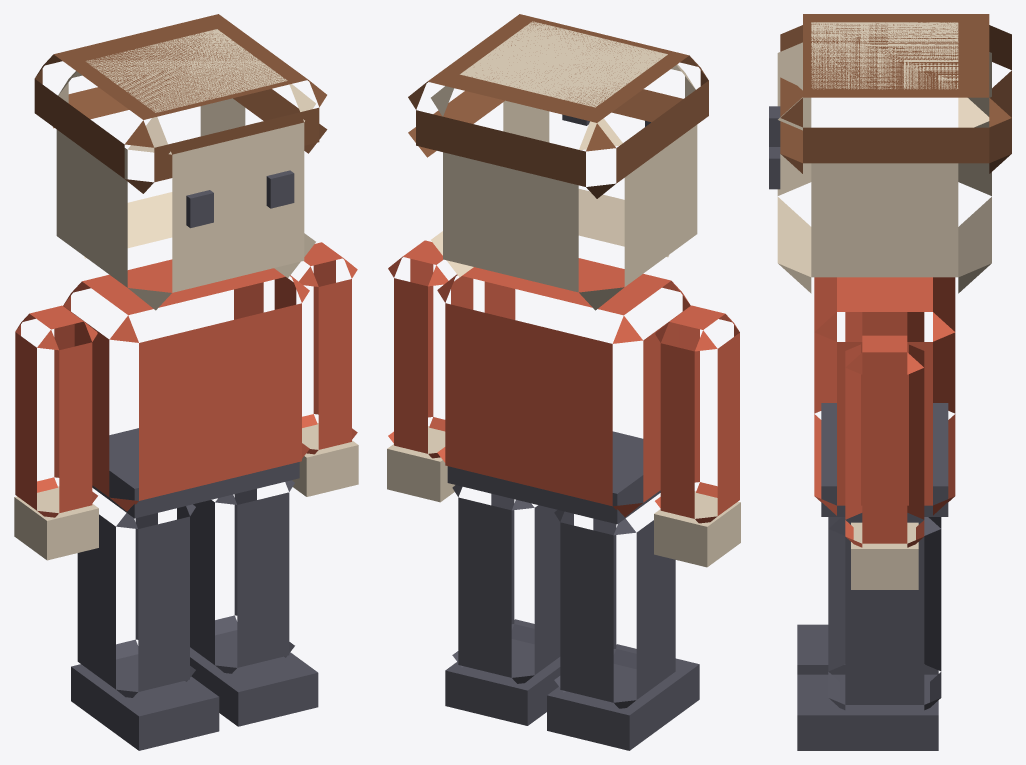
The model's file is citizen-a.glb.
3 views of the same model, side by side, from view 1: azimuth 30°, elevation 25°; view 2: azimuth 150°, elevation 25°; view 3: azimuth 270°, elevation 25° (orthographic). The views are drawn at different scales.
Parts seen in each view (by area): view 1: Head, Body, LegR, LegL, ArmR, ArmL; view 2: Head, Body, LegR, LegL, ArmR, ArmL; view 3: Head, LegL, Body, ArmL, ArmR, LegR.
Boxes of the visible parts, x1,y1,x2,y2 form: Head: (34,14,327,310); Body: (63,259,309,518); LegR: (71,504,219,750); LegL: (177,480,318,726); ArmR: (14,305,98,560); ArmL: (274,242,358,496); Head: (408,14,708,310); Body: (437,258,690,524); LegR: (547,510,699,750); LegL: (445,485,573,725); ArmR: (654,305,740,567); ArmL: (387,240,473,502); Head: (769,14,1011,293); LegL: (797,517,941,750); Body: (814,277,955,516); ArmL: (845,335,924,589); ArmR: (845,312,924,341); LegR: (797,517,938,674).
Bounding box in the file's own units: 0.1392 × 0.26 × 0.088.
